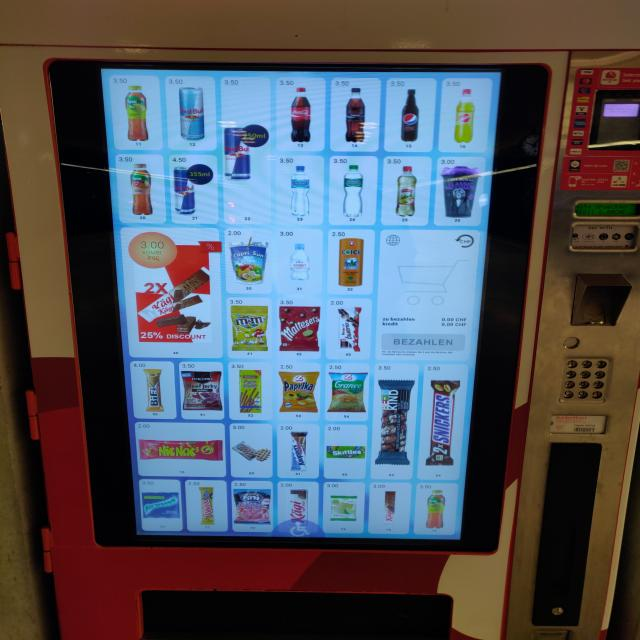airwaves_menthoneucalyptus_riegel_14_1_50173167: (139, 489, 184, 523)
bifi_roll__50__4251097402635: (143, 368, 165, 413)
bueno___43__4008400320328: (335, 306, 362, 354)
c-swiss_dosenabisicetea__33__9120025930135: (332, 237, 368, 290)
caferoyal_classicmacchiato__33__7617014164487: (437, 163, 484, 222)
caprisun_multivitamin__20__4000177605004: (229, 237, 269, 285)
coke__flasche_50__54491472: (284, 86, 317, 145)
coke_zero_flasche_50__5449000131836: (339, 87, 373, 145)
evian___50__3068320353500: (284, 240, 312, 284)
fini_galaxymix_packung_100_1_8410525150364: (232, 486, 273, 526)
fuse_lemon__50__5449000235947: (122, 82, 153, 144)
fuse_peach__50__5449000236623: (127, 160, 158, 218)
henniez_blau__33__7610235000442: (286, 163, 313, 218)
henniez_gruen__33__7610235000442: (337, 162, 369, 220)
jacklinks_beefjerkyorginal__25__4047751730219: (180, 369, 226, 412)
kagi___50__7610046000259: (286, 486, 309, 528)
knoppers_riegel____4035800488808: (286, 430, 310, 473)
lorenz_nicnacs__40__4018077798818: (139, 437, 228, 462)
malburner_partysticks__40__7610200279682: (237, 370, 265, 416)
maltesers___100__5000159023061: (276, 304, 323, 352)
mnms_gelb__45__40111445: (229, 304, 269, 352)
pepsi_max__50__4060800105943: (395, 86, 424, 145)
ramseier_schorle__50__7610057012456: (392, 163, 420, 217)
redbull___33__90162909: (220, 124, 256, 184), (173, 162, 197, 216)
redbull_light__33__90162800: (177, 84, 209, 144)
sinalco_orange__50__4018715000112: (447, 86, 482, 146)
skittles_sour_riegel_51_1_0000000000004: (324, 444, 370, 458)
snickers___50__5000159461122: (423, 380, 462, 467)
twix___50__5000159459228: (195, 485, 218, 526)
zweifel_graneochilli__100__7610095184009: (327, 372, 369, 412)
zweifel_paprika__90__7610095013002: (275, 368, 320, 414)
